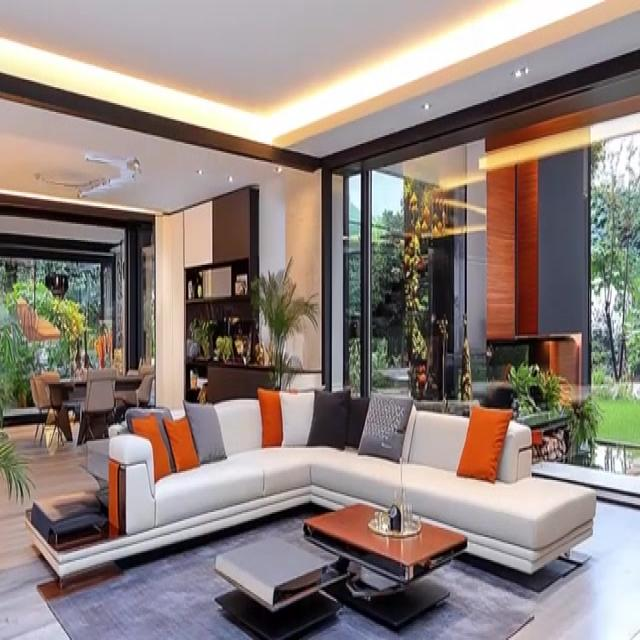obstacle: (92, 384, 595, 578), (300, 502, 468, 632)
